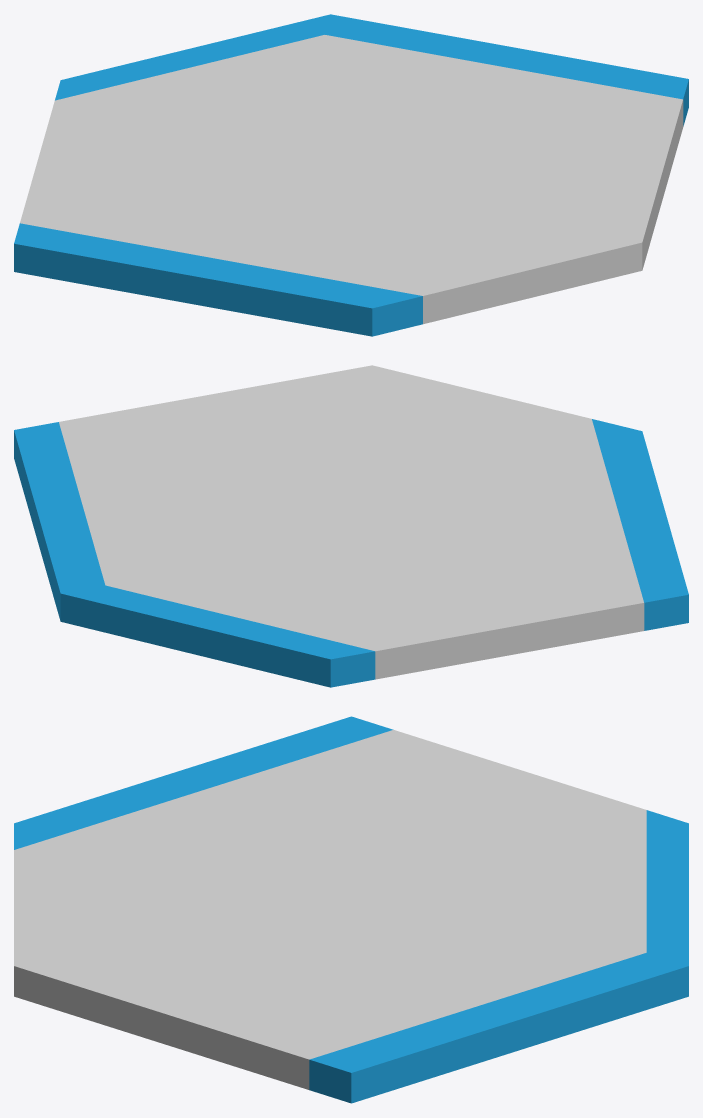
The picture shows the model from 3 angles, top to bottom: view 1: azimuth 30°, elevation 25°; view 2: azimuth 150°, elevation 25°; view 3: azimuth 270°, elevation 25°; orthographic projection. The views are drawn at different scales.
Visible parts, largest first — view 1: Hexagon, SW.001, NE.001, N.001; view 2: Hexagon, N.001, SW.001, NE.001; view 3: Hexagon, NE.001, SW.001, N.001.
Boxes of the visible parts, <box> form: Hexagon: <box>20,35,683,324</box>; SW.001: <box>14,223,422,336</box>; NE.001: <box>325,14,688,126</box>; N.001: <box>55,14,330,100</box>; Hexagon: <box>59,365,644,679</box>; N.001: <box>60,585,375,687</box>; SW.001: <box>592,419,688,630</box>; NE.001: <box>14,422,104,620</box>; Hexagon: <box>14,730,646,1089</box>; NE.001: <box>309,952,688,1103</box>; SW.001: <box>14,716,393,849</box>; N.001: <box>646,810,688,965</box>.
Bounding box in the file's own units: 5 × 4 × 0.2.
